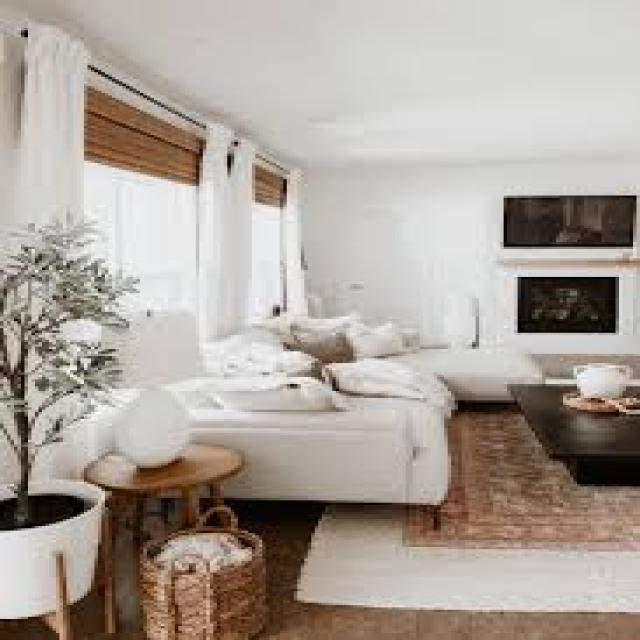Sofa: (87, 286, 458, 486)
Table: (479, 349, 640, 515)
